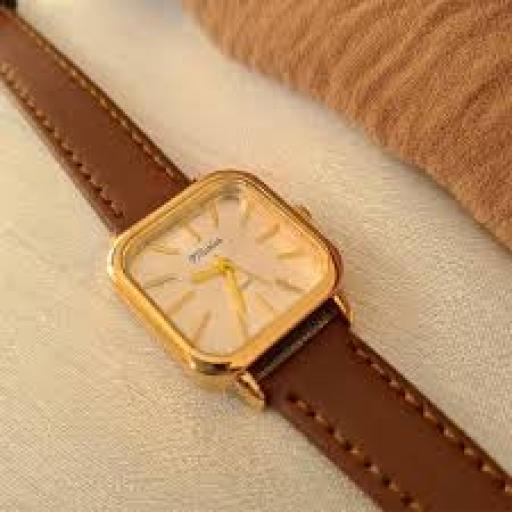KolSaati: (2, 2, 512, 512)
